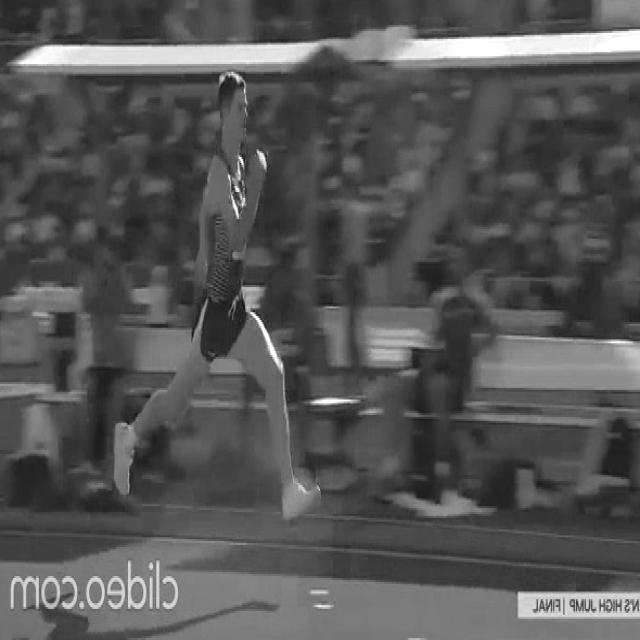run: (112, 78, 318, 519)
